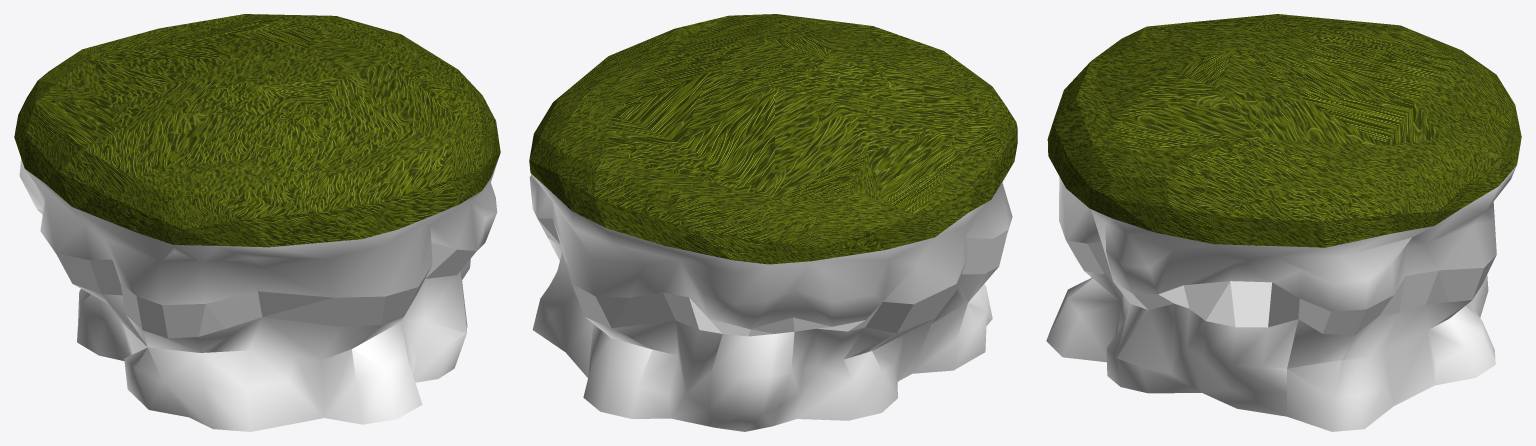
The model's file is PlatformGrass2_LOD1.fbx.
3 views of the same model, side by side, from view 1: azimuth 30°, elevation 25°; view 2: azimuth 150°, elevation 25°; view 3: azimuth 270°, elevation 25° (orthographic). The views are drawn at different scales.
Visible parts, largest first — view 1: Mesh; view 2: Mesh; view 3: Mesh.
Boxes of the visible parts, left/top/right/bottom form: Mesh: left=14, top=14, right=500, bottom=431; Mesh: left=529, top=14, right=1017, bottom=431; Mesh: left=1046, top=14, right=1521, bottom=431.
Bounding box in the file's own units: 1427 × 916 × 1452.
